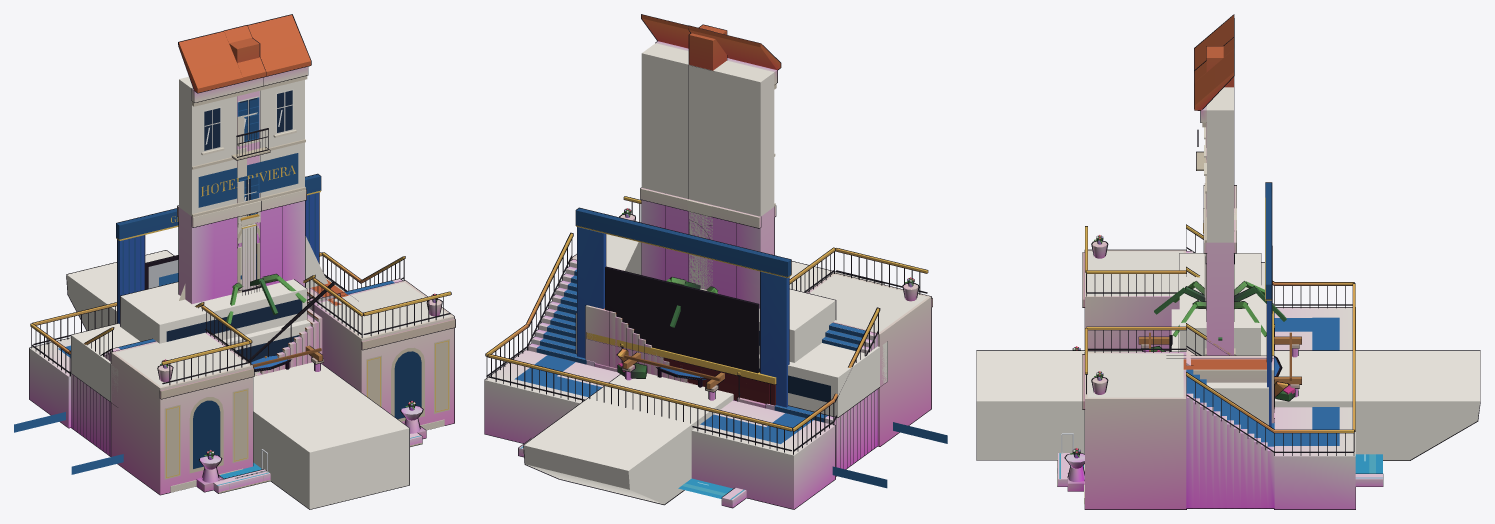
Rendered from fps-kit-riviera.glb.
3 renders of one model, left to right at view 1: azimuth 30°, elevation 25°; view 2: azimuth 150°, elevation 25°; view 3: azimuth 270°, elevation 25°, orthographic. The views are drawn at different scales.
Visible parts, largest first — view 1: KIT_RIVIERA_Landmark_Stair, KIT_RIVIERA_Backdrop_Yacht, KIT_RIVIERA_F_GateTop, KIT_RIVIERA_GateFrame, KIT_RIVIERA_StageScreen, KIT_RIVIERA_RoofStair, KIT_RIVIERA_SW_P, KIT_RIVIERA_Landmark_Pool_M, KIT_RIVIERA_F_Corner, KIT_RIVIERA_F_Bloom, KIT_RIVIERA_F_End, KIT_RIVIERA_CanaryPalm (+3 smaller); view 2: KIT_RIVIERA_Landmark_Stair, KIT_RIVIERA_Backdrop_Yacht, KIT_RIVIERA_StageScreen, KIT_RIVIERA_F_GateTop, KIT_RIVIERA_GateFrame, KIT_RIVIERA_F_Bloom, KIT_RIVIERA_Bar, KIT_RIVIERA_RoofStair, KIT_RIVIERA_F_Corner, KIT_RIVIERA_Pergola, KIT_RIVIERA_Landmark_Pool_N, KIT_RIVIERA_Landmark_Pool_M; view 3: KIT_RIVIERA_Landmark_Stair, KIT_RIVIERA_Backdrop_Yacht, KIT_RIVIERA_F_GateTop, KIT_RIVIERA_GateFrame, KIT_RIVIERA_RoofStair, KIT_RIVIERA_StageScreen, KIT_RIVIERA_CanaryPalm, KIT_RIVIERA_Pergola, KIT_RIVIERA_Landmark_Pool_N, KIT_RIVIERA_F_Corner.
Part boxes in pixels (box(x1,y1,x2,y2)): KIT_RIVIERA_Landmark_Stair: box(29, 252, 455, 495); KIT_RIVIERA_Backdrop_Yacht: box(14, 250, 409, 509); KIT_RIVIERA_F_GateTop: box(178, 14, 311, 217); KIT_RIVIERA_GateFrame: box(177, 189, 306, 303); KIT_RIVIERA_StageScreen: box(116, 173, 321, 323); KIT_RIVIERA_RoofStair: box(248, 277, 358, 375); KIT_RIVIERA_SW_P: box(239, 204, 260, 292); KIT_RIVIERA_Landmark_Pool_M: box(213, 432, 422, 493); KIT_RIVIERA_F_Corner: box(229, 37, 260, 239); KIT_RIVIERA_F_Bloom: box(223, 25, 266, 292); KIT_RIVIERA_F_End: box(224, 25, 266, 91); KIT_RIVIERA_CanaryPalm: box(226, 273, 306, 324); KIT_RIVIERA_Landmark_Stair: box(484, 196, 932, 509); KIT_RIVIERA_Backdrop_Yacht: box(523, 261, 947, 505); KIT_RIVIERA_StageScreen: box(575, 207, 791, 407); KIT_RIVIERA_F_GateTop: box(641, 14, 781, 216); KIT_RIVIERA_GateFrame: box(640, 187, 776, 308); KIT_RIVIERA_F_Bloom: box(689, 26, 728, 289); KIT_RIVIERA_Bar: box(586, 332, 776, 405); KIT_RIVIERA_RoofStair: box(585, 305, 692, 384); KIT_RIVIERA_F_Corner: box(688, 24, 727, 281); KIT_RIVIERA_Pergola: box(617, 352, 724, 400); KIT_RIVIERA_Landmark_Pool_N: box(518, 348, 732, 498); KIT_RIVIERA_Landmark_Pool_M: box(678, 479, 732, 498); KIT_RIVIERA_Landmark_Stair: box(1064, 224, 1355, 509); KIT_RIVIERA_Backdrop_Yacht: box(976, 253, 1480, 460); KIT_RIVIERA_F_GateTop: box(1194, 14, 1234, 242); KIT_RIVIERA_GateFrame: box(1203, 185, 1236, 355); KIT_RIVIERA_RoofStair: box(1166, 335, 1274, 423); KIT_RIVIERA_StageScreen: box(1265, 182, 1272, 426); KIT_RIVIERA_CanaryPalm: box(1154, 281, 1286, 340); KIT_RIVIERA_Pergola: box(1138, 332, 1301, 401); KIT_RIVIERA_Landmark_Pool_N: box(1070, 381, 1383, 486); KIT_RIVIERA_F_Corner: box(1206, 46, 1234, 216).
Size of the model in its own units: 15.6 by 18.24 by 18.63.
Materials: 1 (1 with a texture image).
